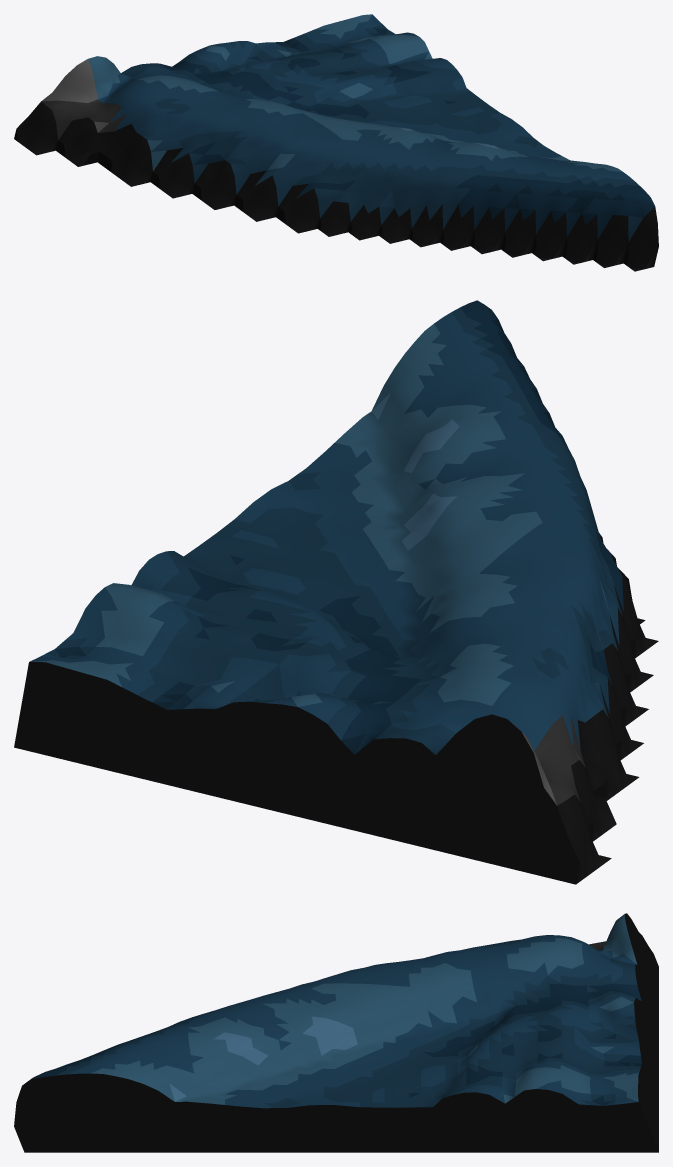
File: gryphon_39.glb
The picture shows the model from 3 angles, top to bottom: view 1: azimuth 30°, elevation 25°; view 2: azimuth 150°, elevation 25°; view 3: azimuth 270°, elevation 25°; orthographic projection. The views are drawn at different scales.
Visible parts, largest first — view 1: gryphon_39; view 2: gryphon_39; view 3: gryphon_39.
Part boxes in pixels (x1,y1,x2,y2): gryphon_39: (14,14,658,271); gryphon_39: (14,300,658,884); gryphon_39: (14,913,658,1152).
Size of the model in its own units: 18 by 3.83 by 26.43.
